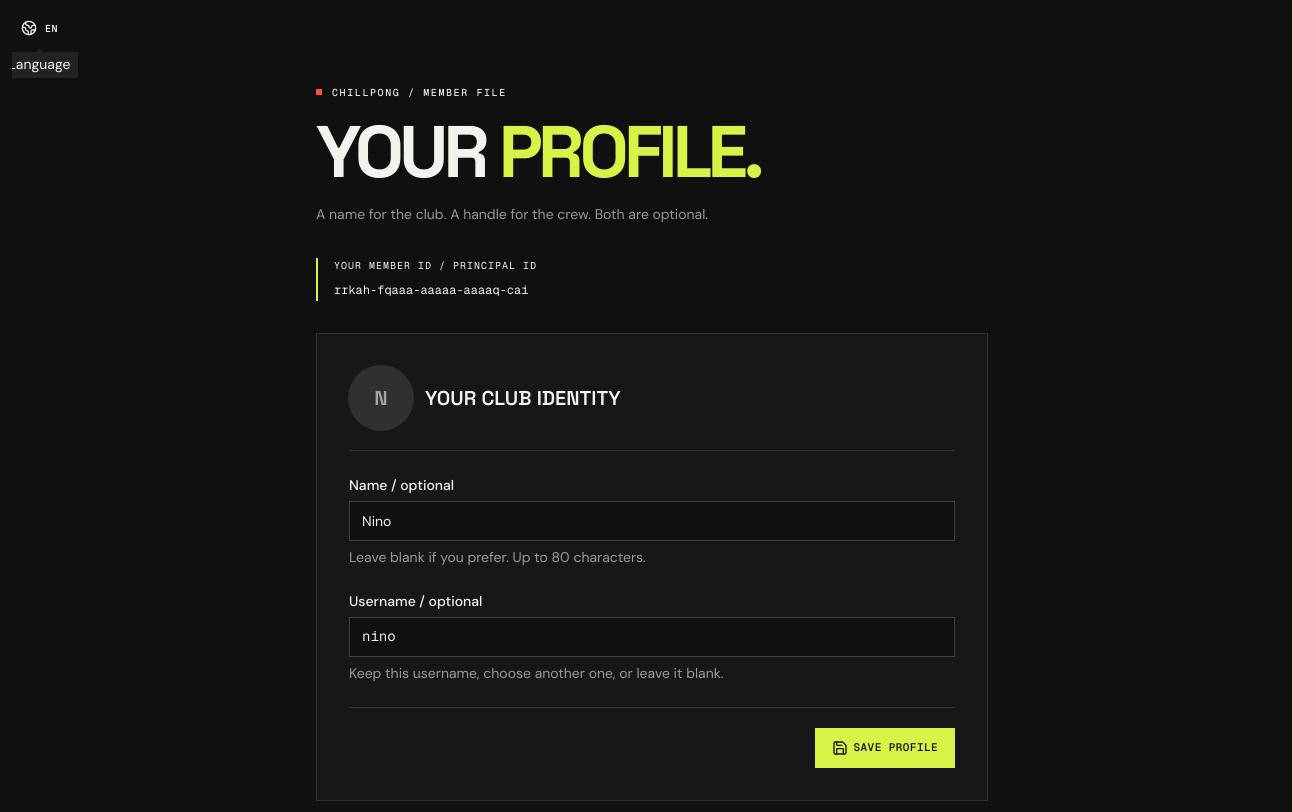
Test: language selection › defaults to English and changes the entire profile without losing draft fields
The width and height of the screenshot is (1292, 812).
Replace the text in the field labelled "Name / optional" with "ნინო / Nina": {"x": 652, "y": 521} left=349, top=501, right=955, bottom=541
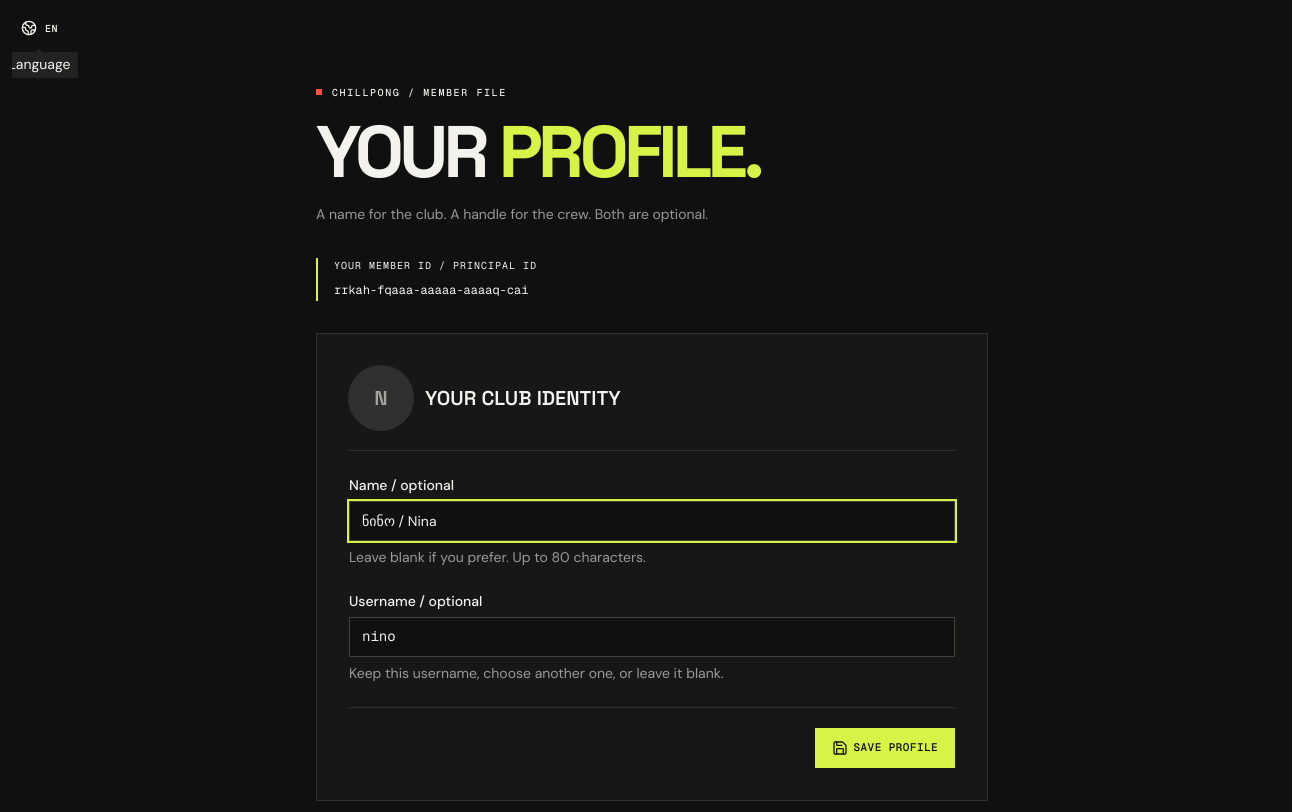
Click the button with aria-label "Change language": {"x": 39, "y": 28} left=12, top=12, right=67, bottom=44
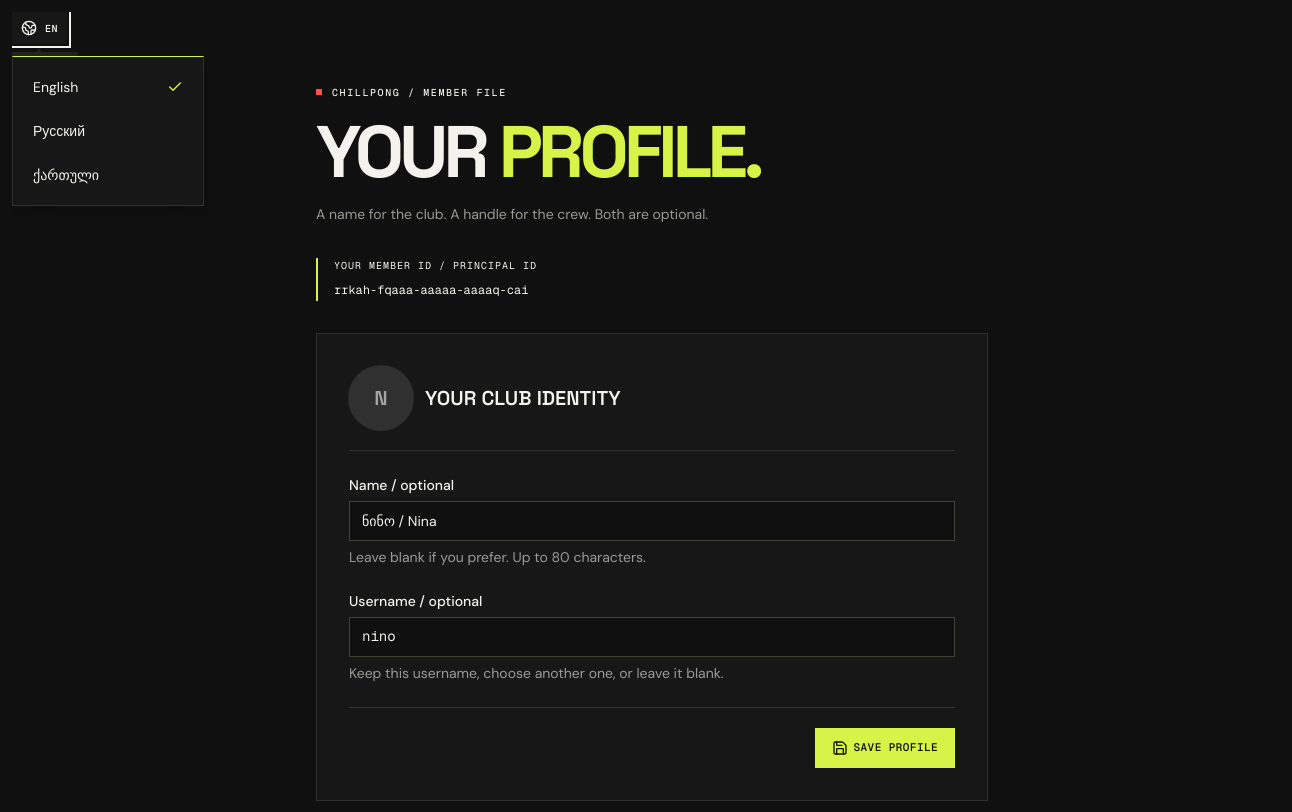
Click the radio button labelled "Русский": {"x": 59, "y": 131} left=33, top=122, right=85, bottom=140
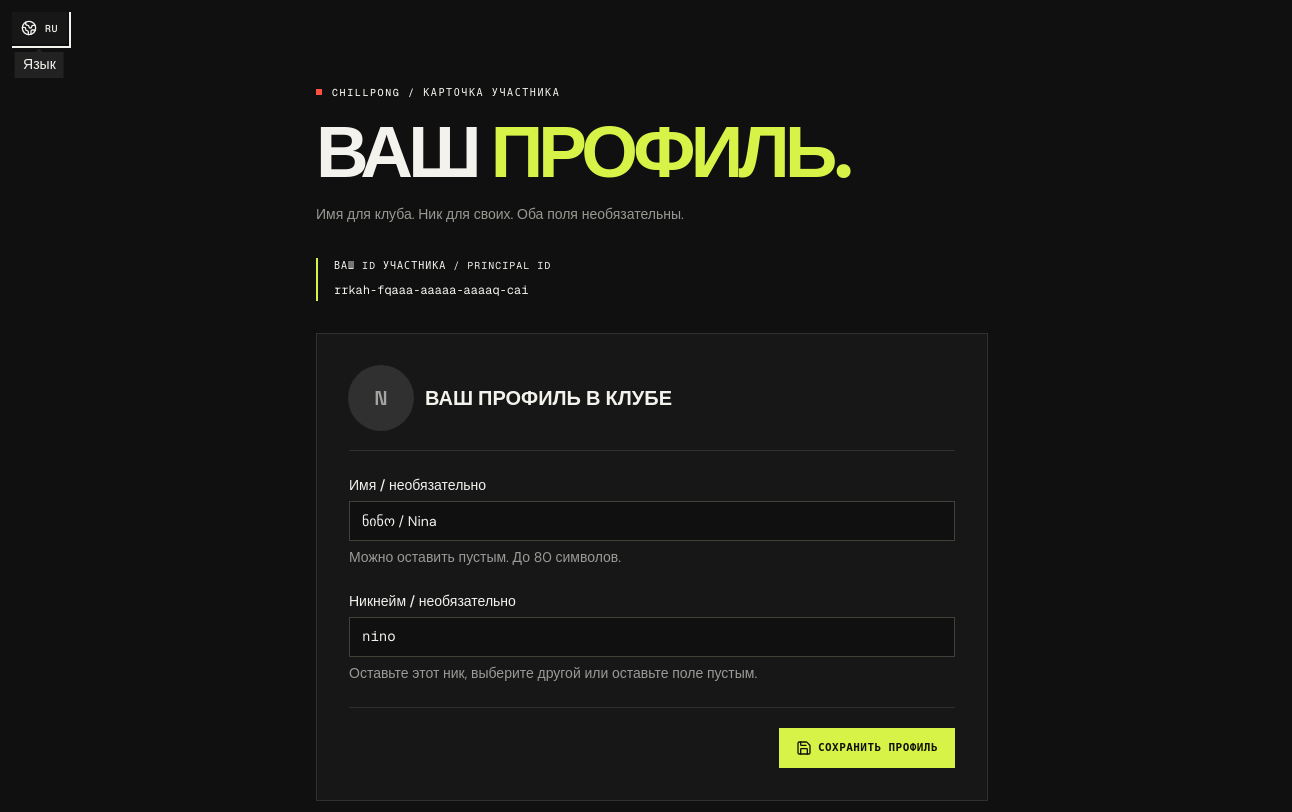
Expected: the button "Сохранить профиль" is shown, left=779, top=728, right=955, bottom=768
Expected: the radio button is gone
Click the button with aria-label "Изменить язык": {"x": 39, "y": 28} left=12, top=12, right=67, bottom=44
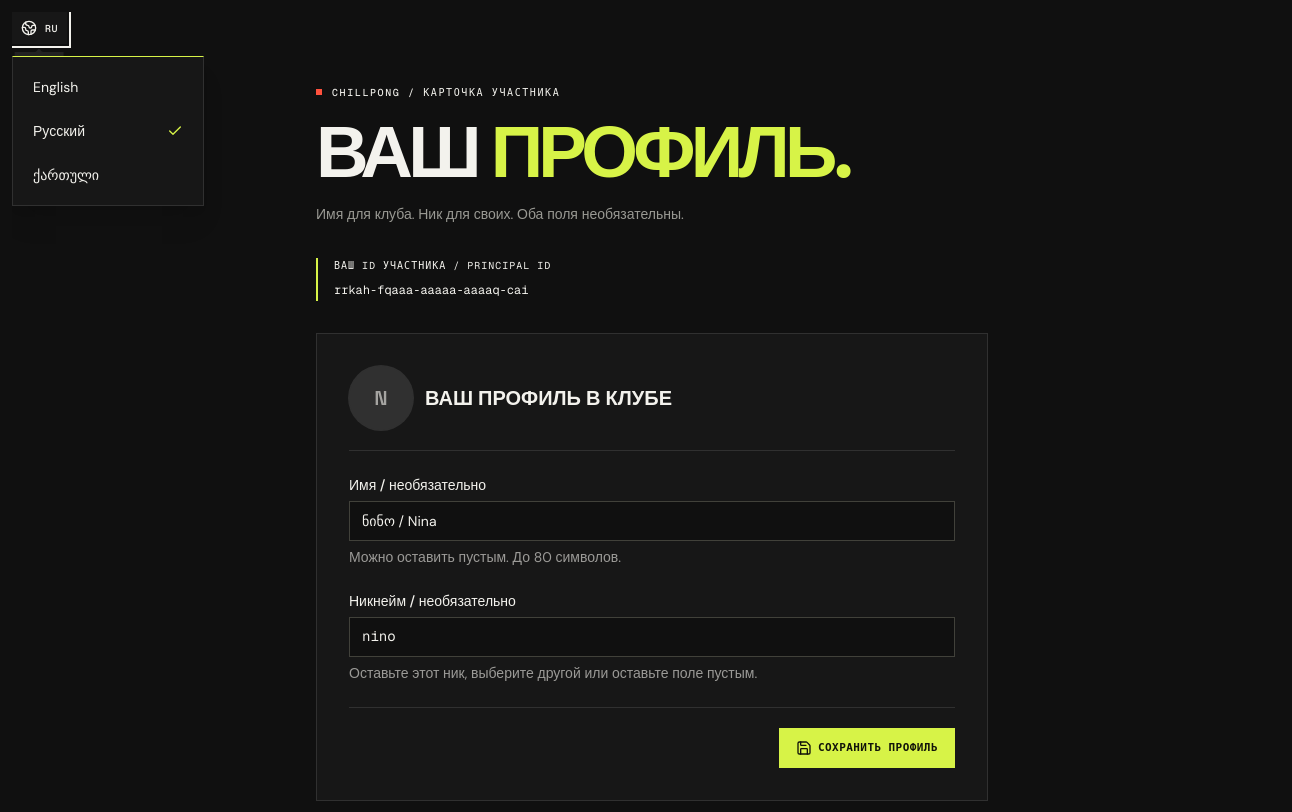
Click the radio button labelled "ქართული": {"x": 66, "y": 175} left=33, top=166, right=99, bottom=184
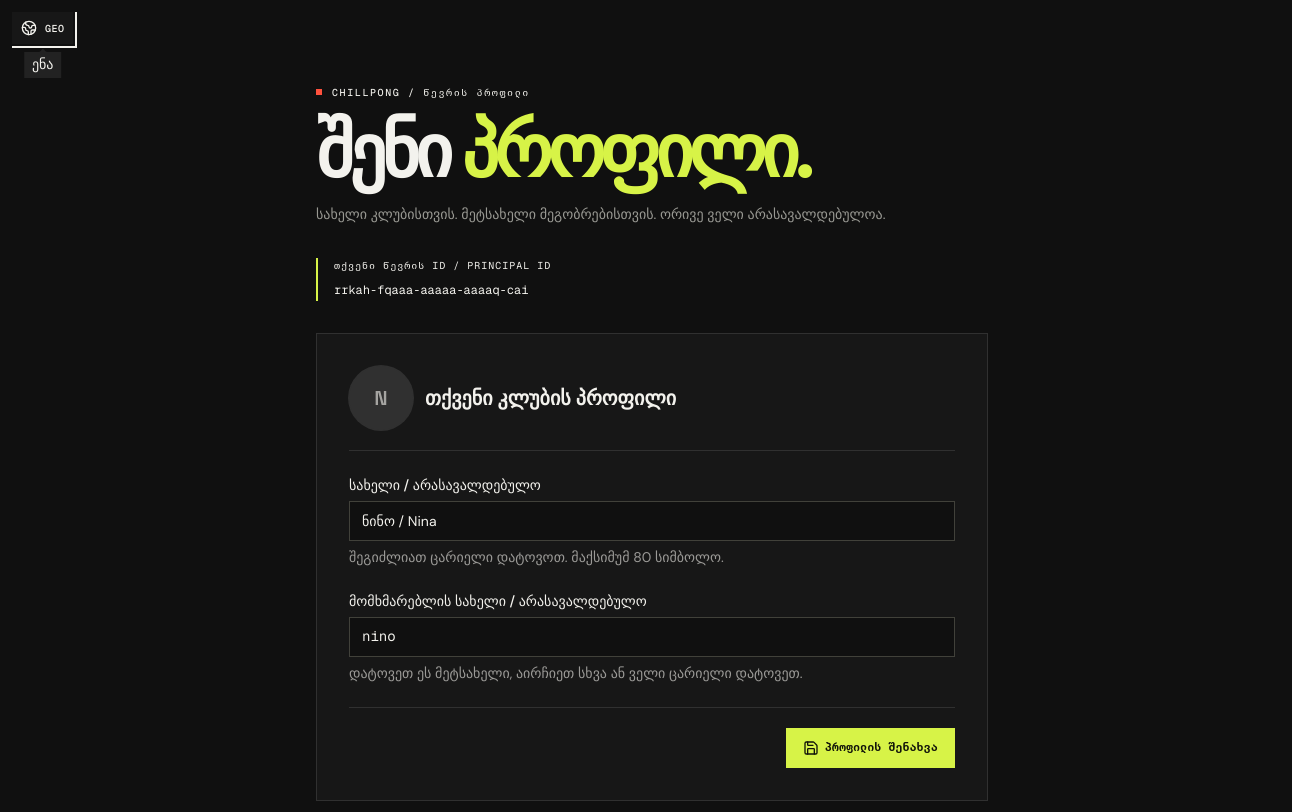
Expected: the text "rrkah-fqaaa-aaaaa-aaaaq-cai" is shown, left=334, top=283, right=528, bottom=297
Expected: the button "პროფილის შენახვა" is shown, left=786, top=728, right=955, bottom=768
